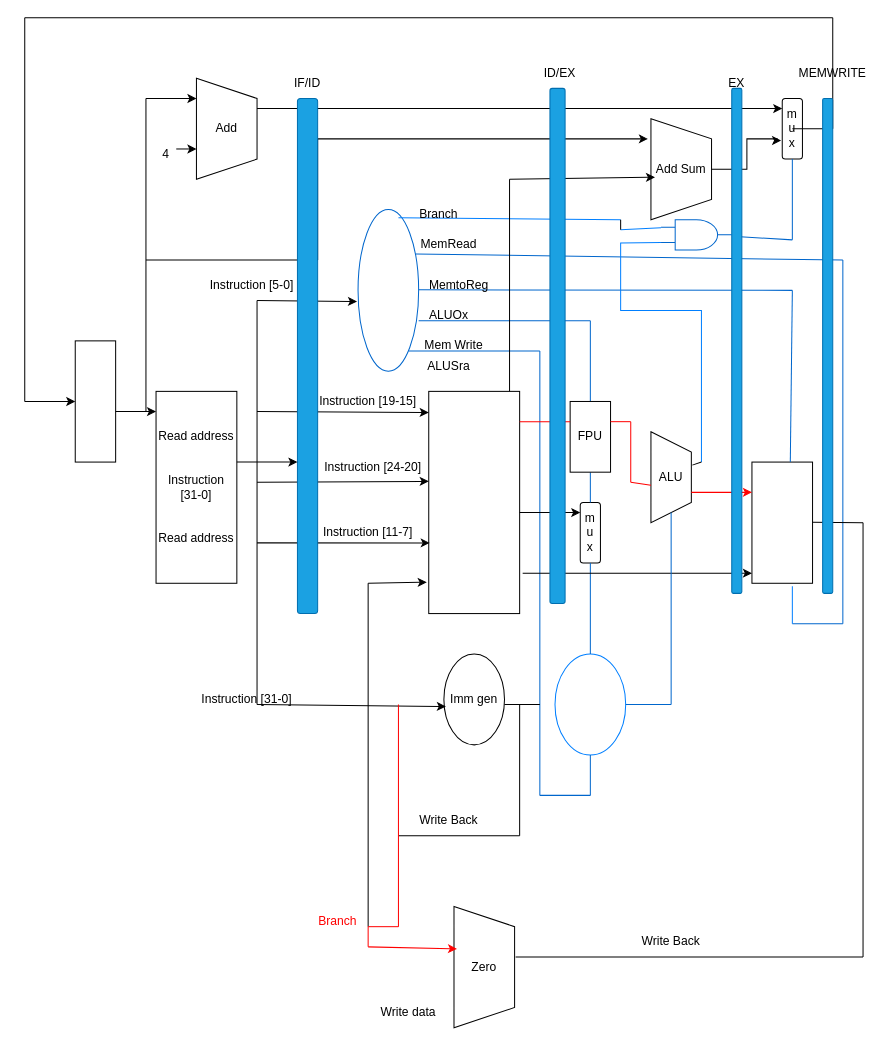
This 884x1045 diagram has some shape labels left out. The box of each missing label's shape, as (x1, y1, x2, y2) in pixels:
Address Read Data Write Data: (751, 461, 813, 583)
ALU Contol: (554, 653, 626, 755)
Control: (357, 209, 419, 371)
Pc: (74, 340, 116, 462)
Readreg1 R data Readreg2 Data Write Data Write Data registers: (428, 390, 520, 614)
